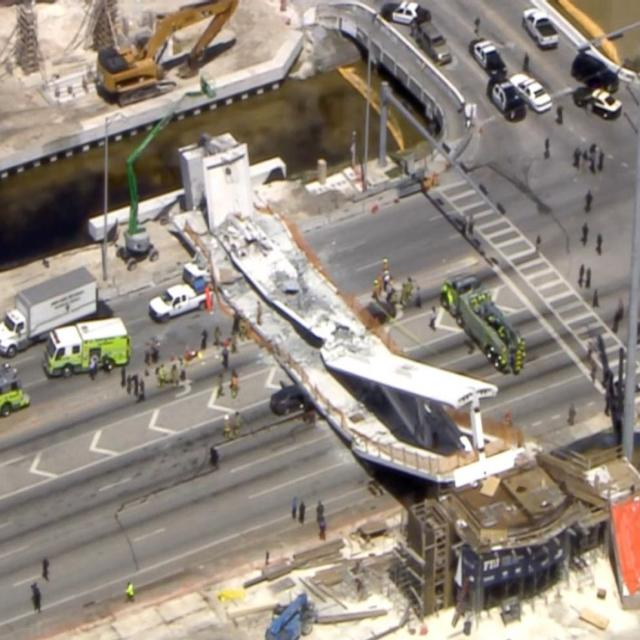collapsed_building: (169, 131, 518, 484)
